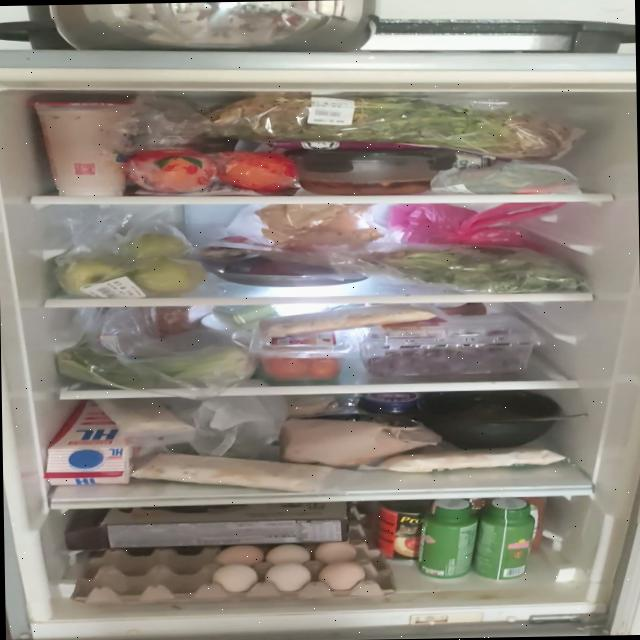apple: (54, 233, 206, 299)
egg: (70, 540, 397, 604)
grape: (364, 329, 522, 377)
leafy_greens: (206, 90, 574, 166), (359, 243, 586, 295), (56, 338, 254, 387)
orange: (124, 146, 298, 198)
tempeh: (130, 450, 334, 495), (258, 302, 436, 338), (379, 445, 567, 473), (88, 398, 194, 438)
unknown_bag: (388, 200, 568, 248), (184, 392, 289, 456), (429, 162, 579, 196)
